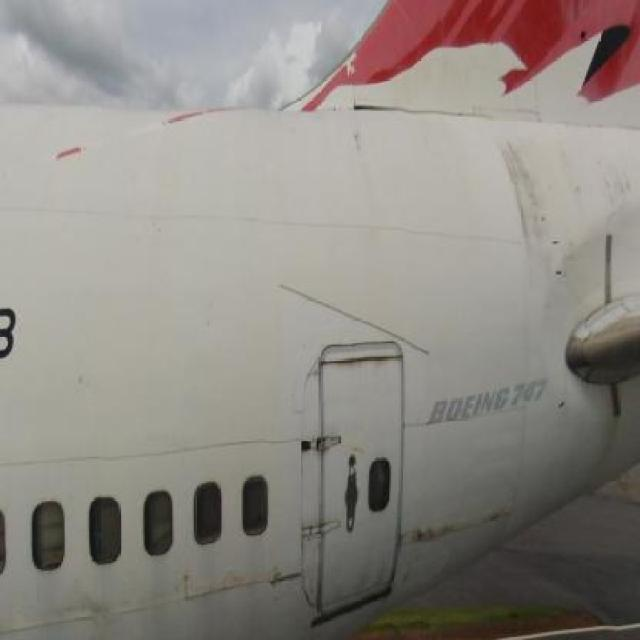Rust: (495, 138, 557, 272), (397, 512, 512, 553), (598, 146, 636, 212), (599, 402, 626, 486), (322, 349, 407, 374), (348, 558, 394, 597)
Scartch: (57, 575, 128, 639), (243, 558, 305, 602)
